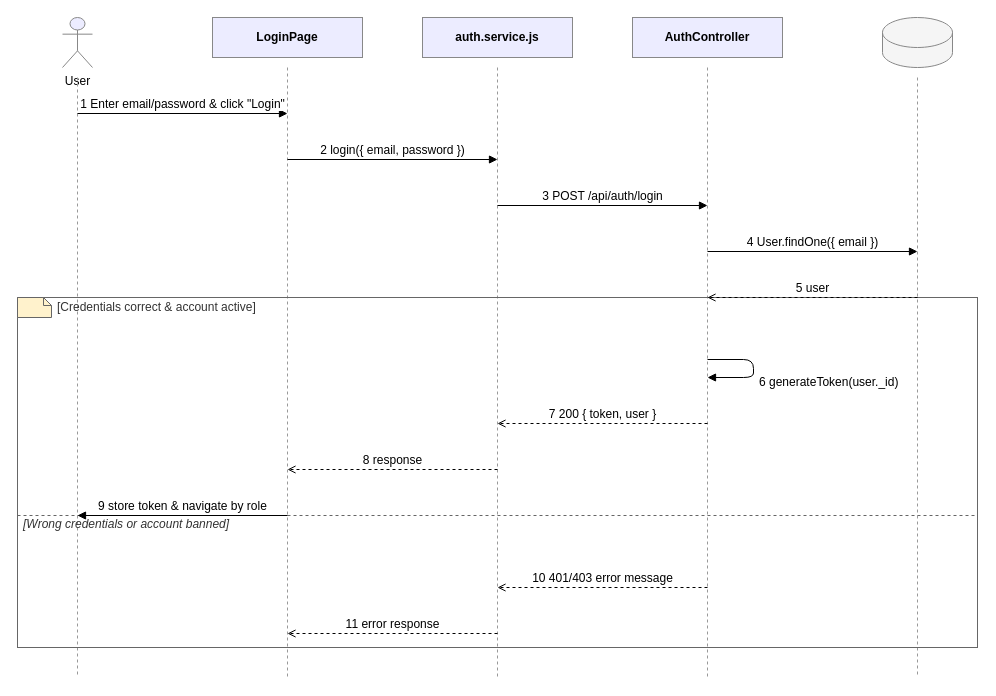
This 996x696 diagram has some shape labels left out. Here are the shapes that lost their labels. From the top down, the centre of each, then its label:
At point (917, 42): "MongoDB".
At point (34, 307): "alt".
